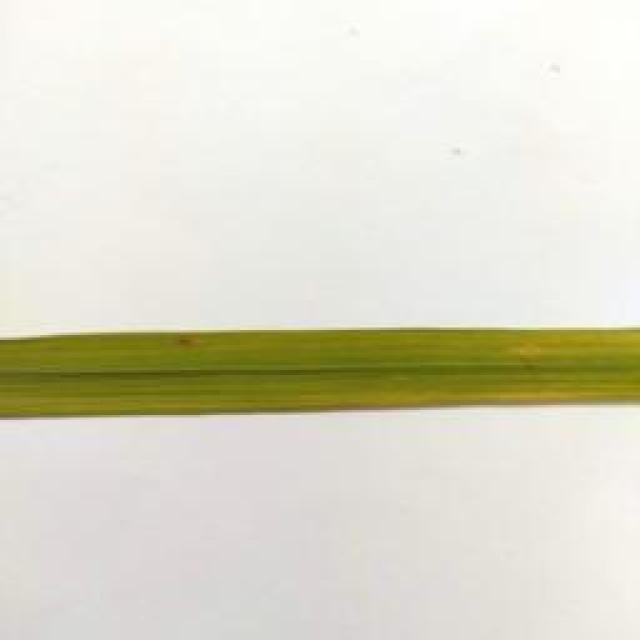Bacterial_Blight: (432, 329, 640, 410)
Brown_Spot: (170, 330, 204, 358)
